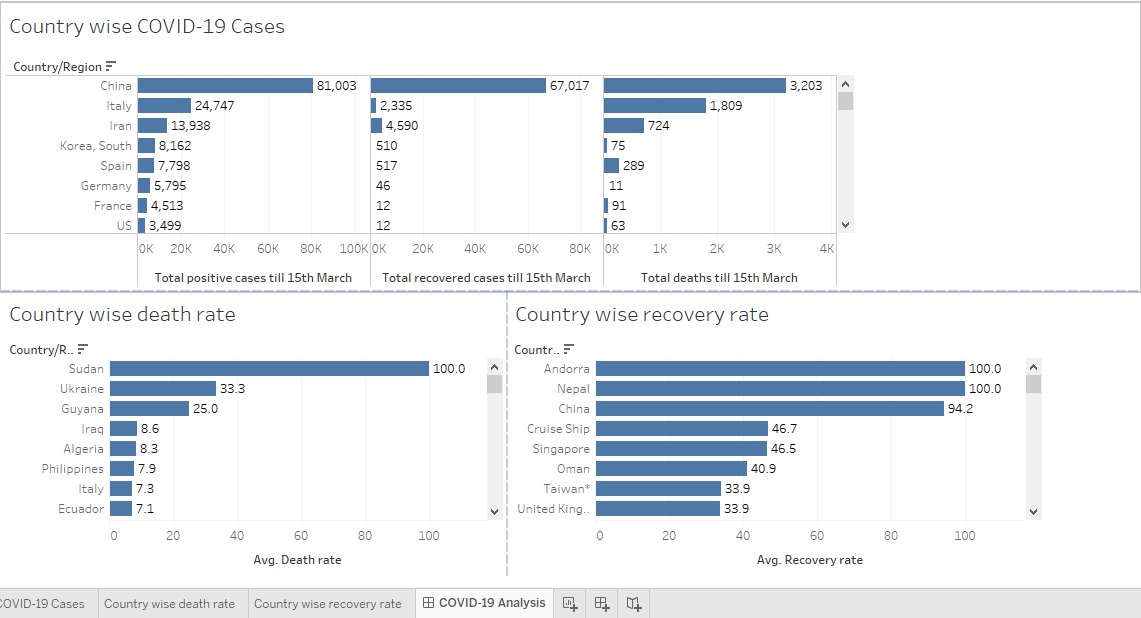

The page's visual inventory and layout, read from the dashboard file:
{"tool":"tableau","page":{"name":"COVID-19 Analysis","canvas":[1000,1000],"units":"permille","ordinal":0},"visuals":[{"type":"worksheet","title":"Country wise COVID-19 Cases","mark":"Automatic","rows":["Country/Region"],"cols":["Total cases till 15th March","Total recovered cases till 15th March","Total deaths till 15th March"],"box":[6.9,13.5,986.1,486.4]},{"type":"worksheet","title":"Country wise death rate","mark":"Automatic","rows":["Country/Region"],"cols":["Calculation_346777201513734144"],"box":[6.9,500,437.9,486.5]},{"type":"worksheet","title":"Country wise recovery rate","mark":"Automatic","rows":["Country/Region"],"cols":["Calculation_346777201515651073"],"box":[444.8,500,548.2,486.5]}]}

Visuals, with their boxes on the dashboard's canvas, which has no fixed pixel size, in thousandths of its width and height (x1, y1, x2, y2). These are canvas units, not pixel positions in the 1141x618 screenshot, which may show the page scaled, cropped or inside an application window:
"Country wise COVID-19 Cases" worksheet: 7 14 993 500
"Country wise death rate" worksheet: 7 500 445 986
"Country wise recovery rate" worksheet: 445 500 993 986
